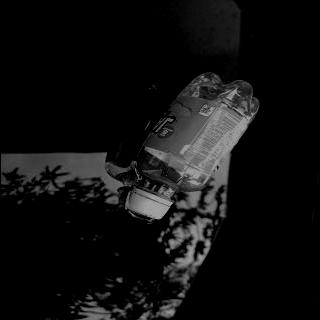bottle: (124, 70, 262, 222)
